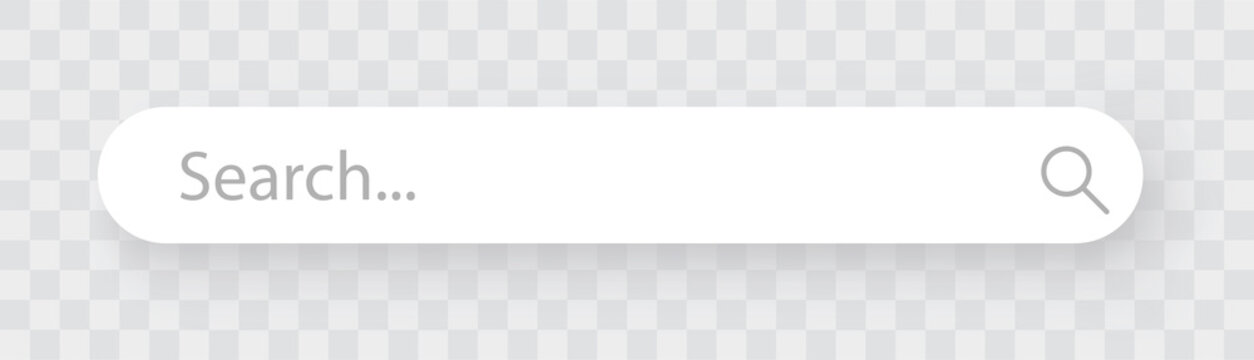search_box: (107, 109, 1138, 244)
